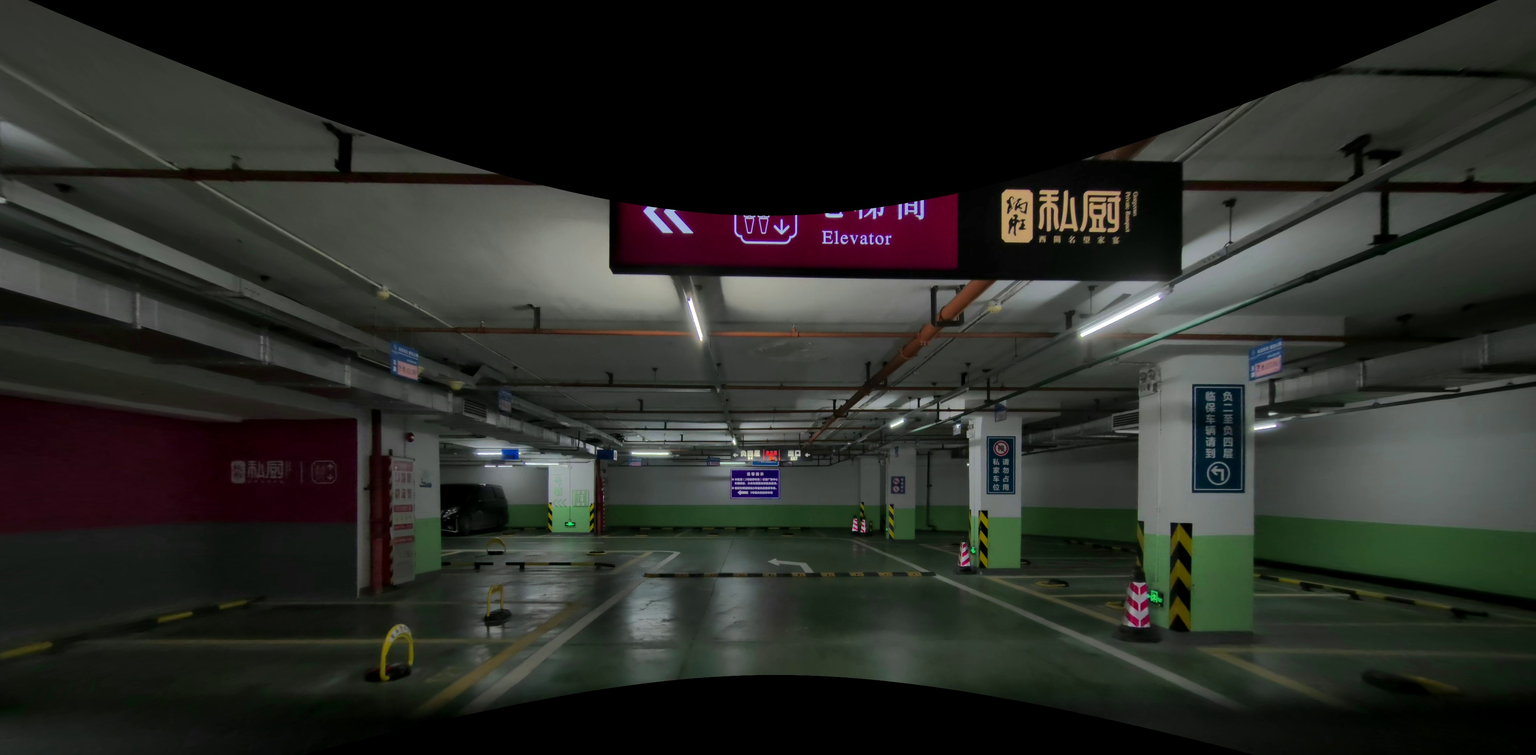5: (894, 486, 898, 491)
EXIT: (788, 456, 798, 461)
Elevator: (818, 230, 891, 247)
elevators: (732, 204, 794, 241), (310, 461, 336, 483), (573, 490, 589, 507)
exits: (1144, 588, 1164, 605), (970, 545, 976, 555), (564, 522, 576, 527)
临保车辆请到: (1201, 389, 1215, 458)
二号楼: (551, 467, 564, 497)
停: (996, 444, 1005, 452)
出口: (787, 447, 800, 455)
左: (640, 206, 691, 235), (763, 557, 814, 571), (1206, 462, 1230, 484), (1210, 465, 1225, 479), (551, 498, 568, 508), (736, 490, 748, 495), (804, 452, 811, 458), (731, 452, 738, 458)
私厨: (1034, 189, 1126, 233), (248, 461, 286, 478)
私家车位: (992, 457, 1000, 491)
请勿占用: (1002, 457, 1010, 491)
负三层: (766, 449, 777, 455)
负二至负四层: (1221, 389, 1236, 457)
负四层: (741, 449, 760, 456)
